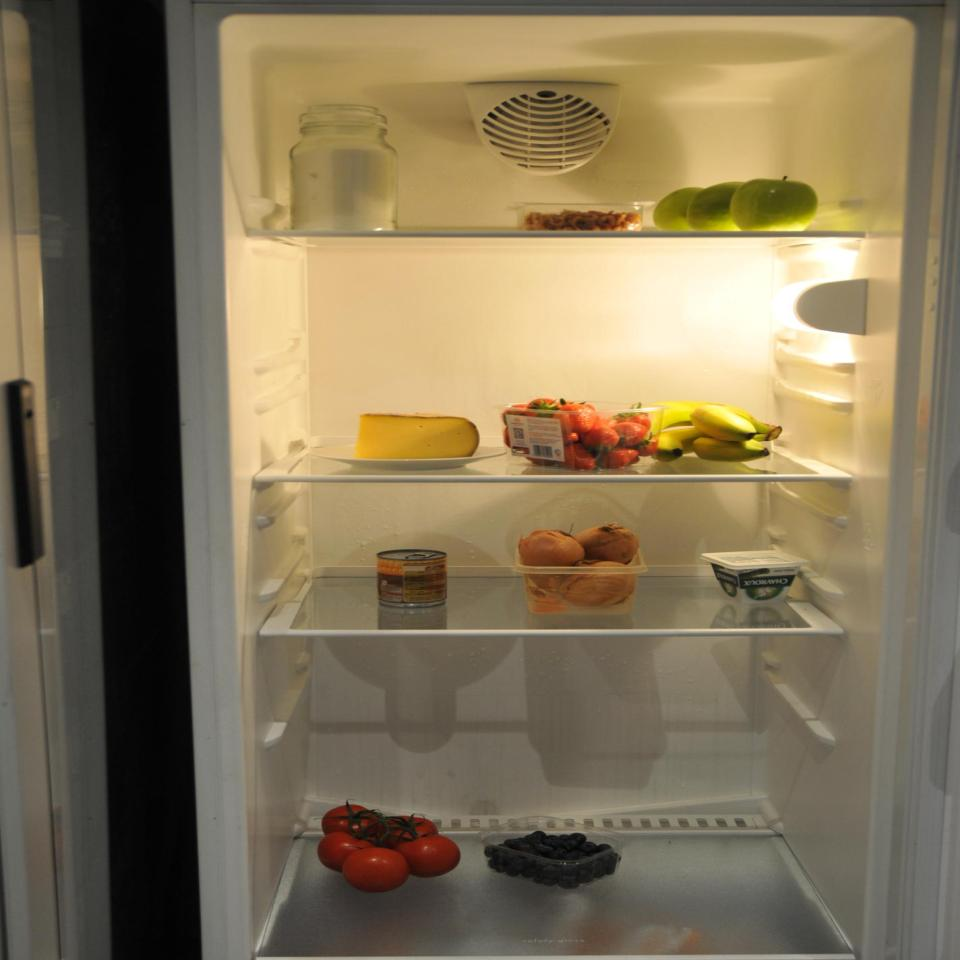Manzana: (644, 174, 820, 232)
Plátano: (644, 400, 789, 468)
Queso: (349, 403, 484, 469)
Tomate: (311, 796, 464, 891)
